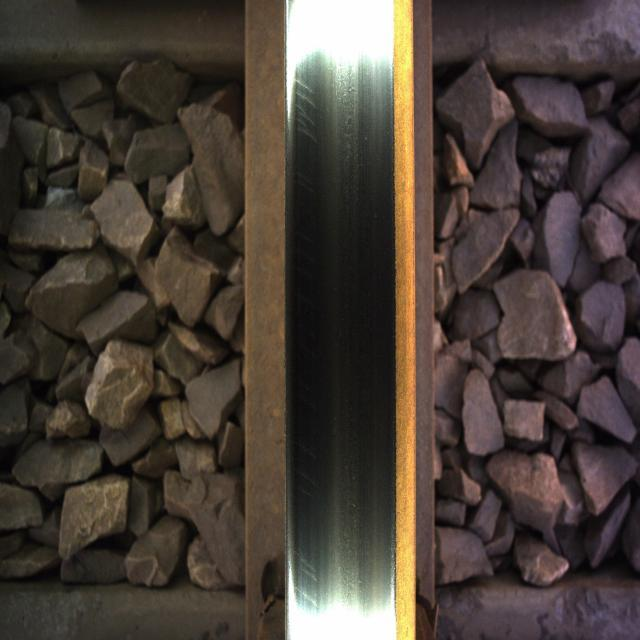break: (292, 38, 382, 528)
